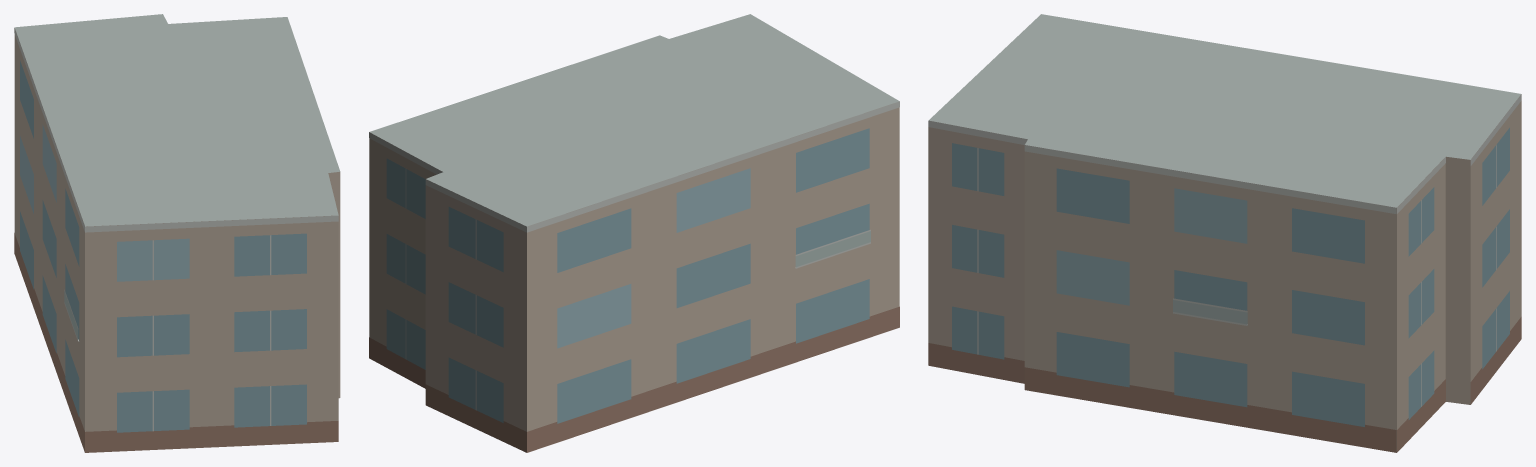
The model's file is survey-upis-32891974.glb.
3 views of the same model, side by side, from view 1: azimuth 30°, elevation 25°; view 2: azimuth 150°, elevation 25°; view 3: azimuth 270°, elevation 25° (orthographic). The views are drawn at different scales.
Parts seen in each view (by area): view 1: survey-upis-32891974.tmp; view 2: survey-upis-32891974.tmp; view 3: survey-upis-32891974.tmp.
Boxes of the visible parts, x1,y1,x2,y2 form: survey-upis-32891974.tmp: [14, 14, 340, 452]; survey-upis-32891974.tmp: [369, 14, 899, 452]; survey-upis-32891974.tmp: [928, 14, 1521, 452].
Bounding box in the file's own units: 15.52 × 9.15 × 20.07.
